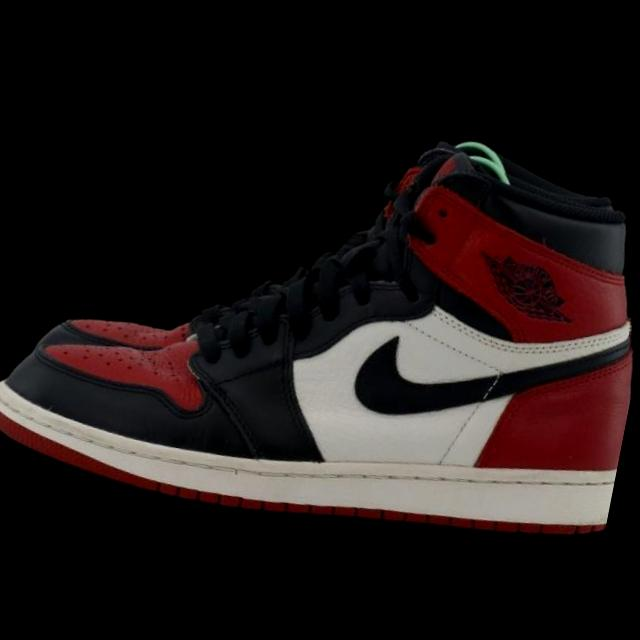nike_original_jordan: (0, 50, 640, 597), (18, 58, 639, 458)
